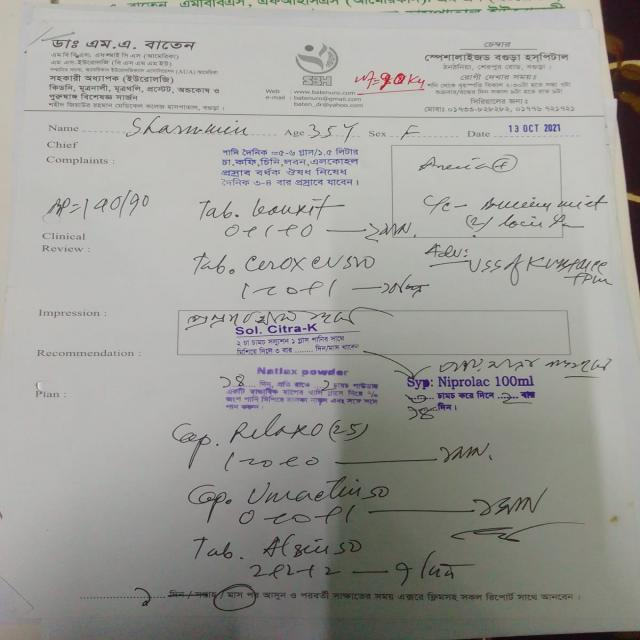Algin: (260, 529, 331, 564)
Cerox-CV: (244, 250, 340, 275)
Leanxit: (253, 195, 332, 224)
Relaxo: (229, 416, 324, 446)
Umactin: (249, 479, 371, 508)
